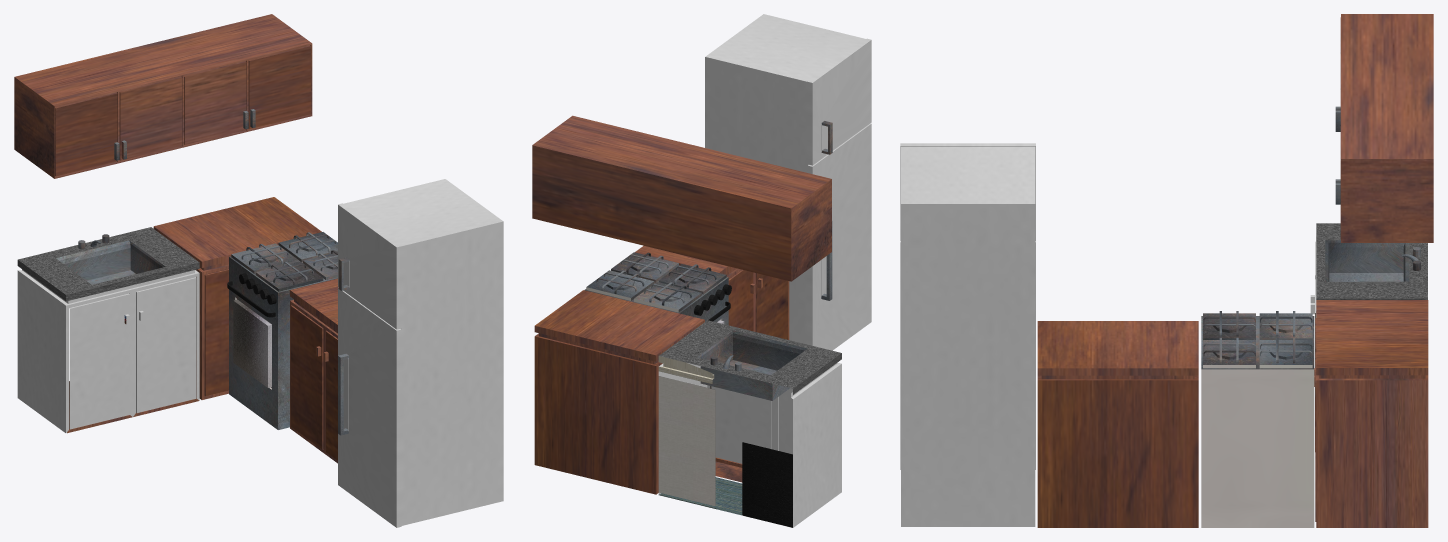
Rendered from Kitchen.fbx.
3 renders of one model, left to right at view 1: azimuth 30°, elevation 25°; view 2: azimuth 150°, elevation 25°; view 3: azimuth 270°, elevation 25°, orthographic. The views are drawn at different scales.
Visible parts, largest first — view 1: Cylinder.003; view 2: Cylinder.003; view 3: Cylinder.003.
Part boxes in pixels (x1,y1,x2,y2): Cylinder.003: (14, 14, 503, 527); Cylinder.003: (532, 14, 871, 527); Cylinder.003: (900, 14, 1433, 527).
Size of the model in its own units: 169 by 200 by 262.
